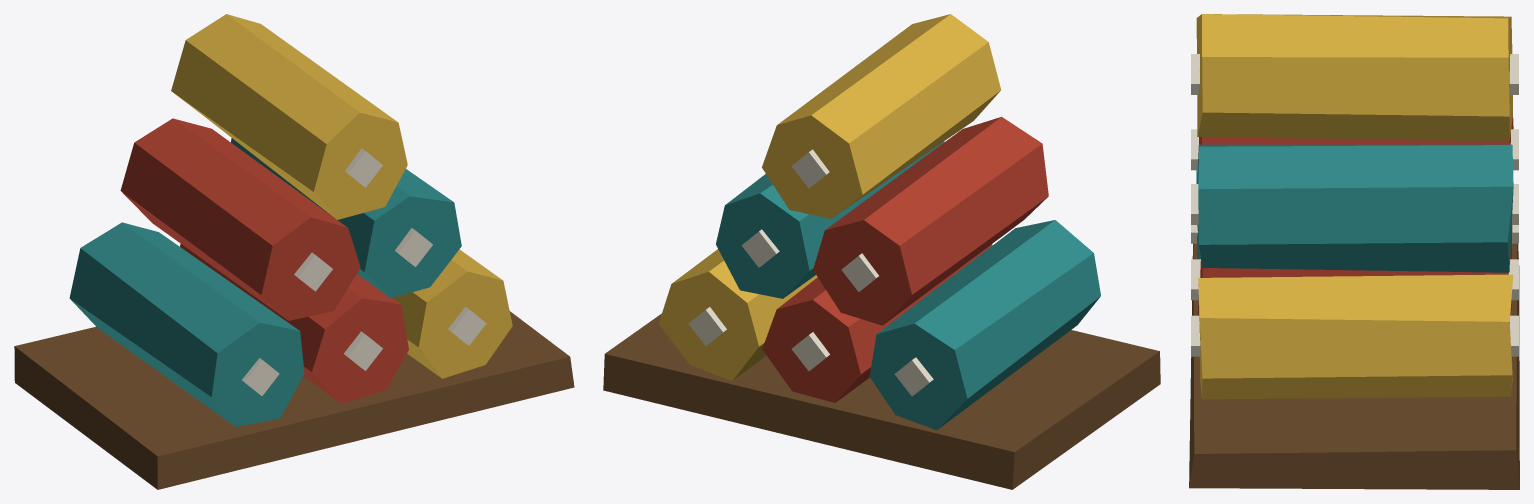
Rendered from good_textiles.glb.
3 views of the same model, side by side, from view 1: azimuth 30°, elevation 25°; view 2: azimuth 150°, elevation 25°; view 3: azimuth 270°, elevation 25° (orthographic). The views are drawn at different scales.
Parts seen in each view (by area): view 1: good_textiles; view 2: good_textiles; view 3: good_textiles.
Boxes of the visible parts, x1,y1,x2,y2 form: good_textiles: [14, 14, 574, 489]; good_textiles: [603, 14, 1160, 489]; good_textiles: [1189, 14, 1519, 489].
Size of the model in its own units: 0.622 by 0.4642 by 0.3834.
